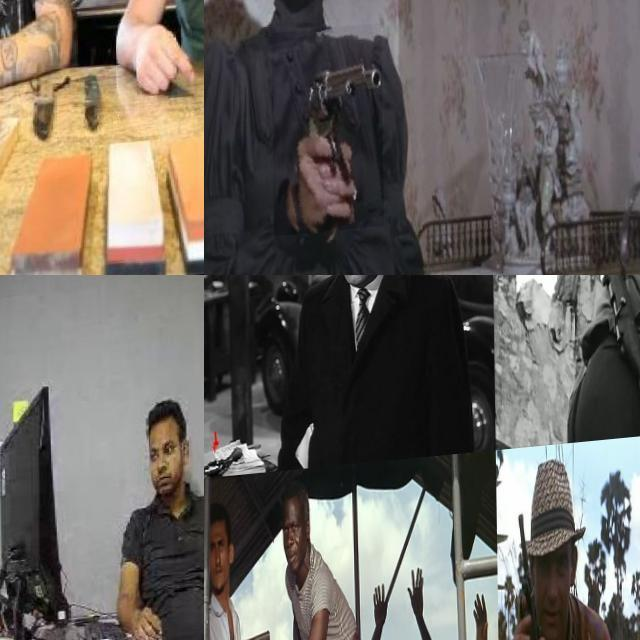-: (111, 0, 204, 70)
gun-knife-thesis - v11 Yolov5 augmented: (270, 30, 382, 242), (587, 275, 640, 448), (503, 509, 536, 640), (204, 442, 243, 482), (233, 626, 269, 640)
